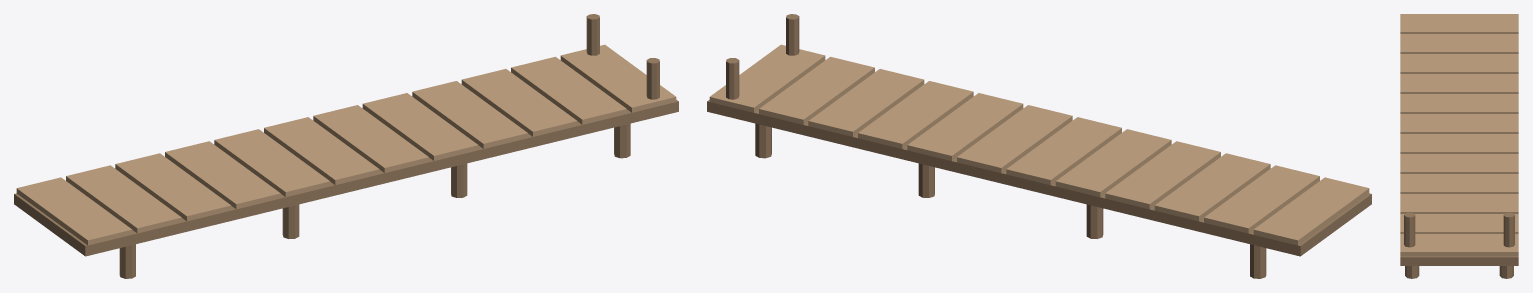
File: Pier.fbx
3 renders of one model, left to right at view 1: azimuth 30°, elevation 25°; view 2: azimuth 150°, elevation 25°; view 3: azimuth 270°, elevation 25°, orthographic. The views are drawn at different scales.
Parts seen in each view (by area): view 1: Pier_Model; view 2: Pier_Model; view 3: Pier_Model.
Boxes of the visible parts, left/top/right/bottom form: Pier_Model: left=14, top=14, right=678, bottom=278; Pier_Model: left=707, top=14, right=1371, bottom=278; Pier_Model: left=1400, top=14, right=1518, bottom=278.
Size of the model in its own units: 12 by 1.7 by 2.5.
